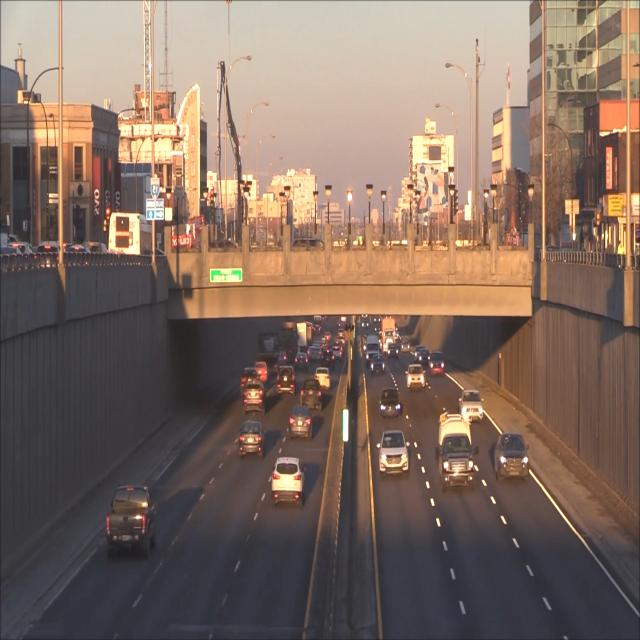Vehicle: (107, 486, 158, 560), (436, 411, 476, 495), (494, 431, 530, 490), (272, 455, 307, 512), (376, 427, 411, 481), (236, 418, 266, 462), (458, 385, 484, 426), (288, 404, 313, 444), (301, 376, 324, 414), (242, 381, 267, 415), (378, 388, 403, 420), (276, 363, 296, 399), (406, 363, 424, 391), (427, 350, 445, 377), (370, 354, 386, 374)
